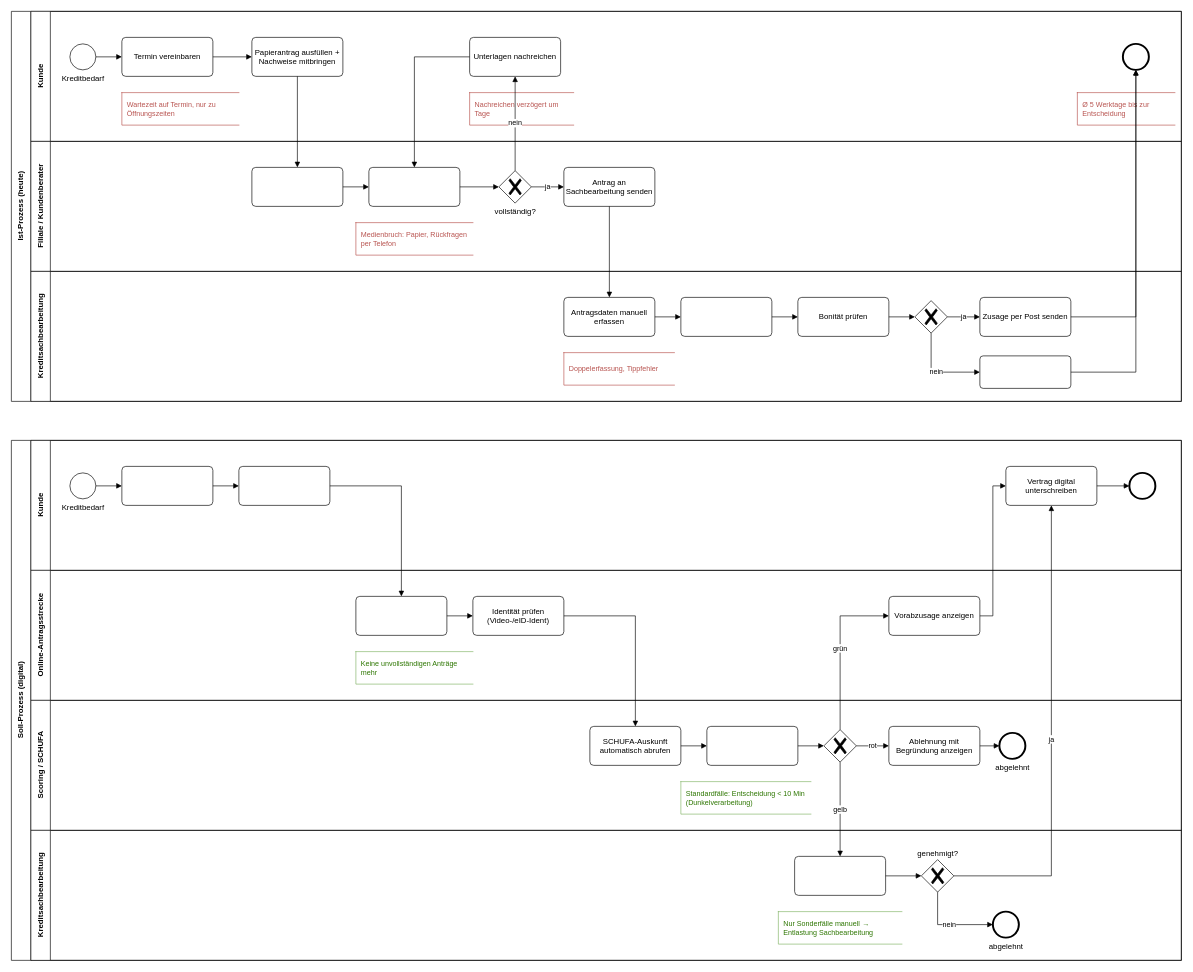
The diagram is 1193 pixels wide and 972 high, and some of its shapes have lost their labels. The centre of each missing label's shape, as x and y in pixels:
Ablehnung per Post senden: the point at 1025,371
Antrag auf Vollständigkeit prüfen: the point at 414,186
Antrag online ausfüllen: the point at 167,485
Beratungsgespräch führen: the point at 297,186
Eingaben automatisch validieren: the point at 401,615
Entscheidung erhalten: the point at 1135,56
Ergebnis?: the point at 839,745
Kredit genehmigt?: the point at 930,316
Kredit zugesagt: the point at 1142,485
Nachweise hochladen / Kontoblick freigeben: the point at 284,485
SCHUFA-Auskunft manuell anfordern: the point at 726,316
Scoring berechnen: the point at 752,745
Sonderfall manuell prüfen: the point at 840,875
